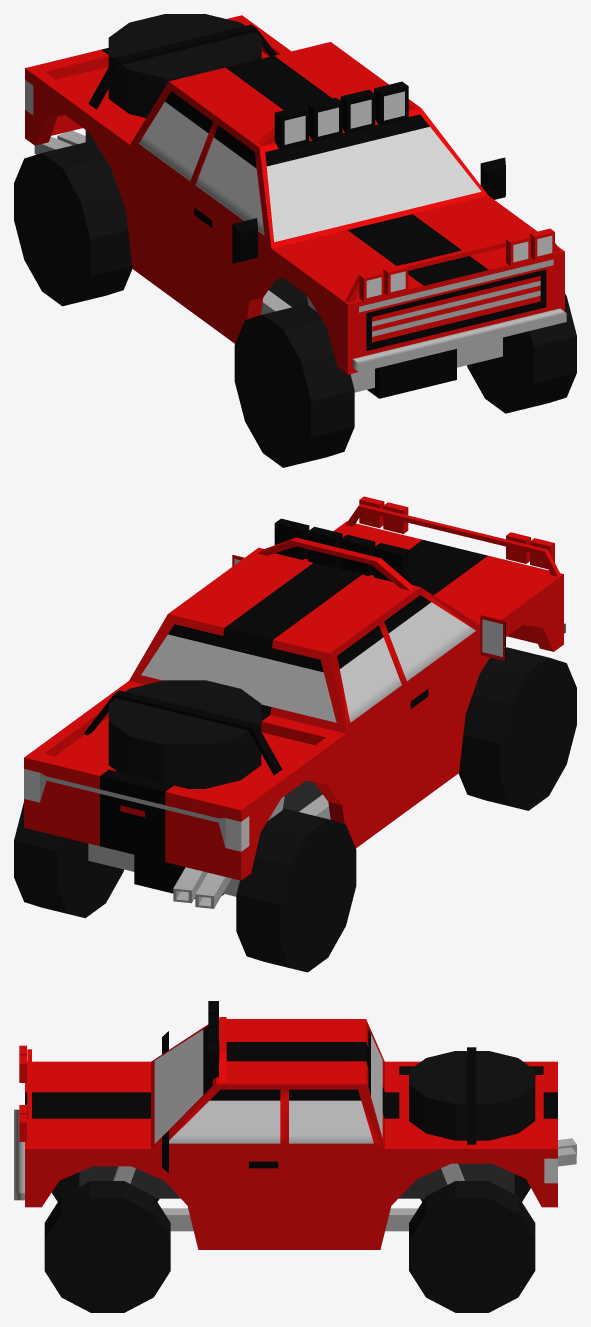
File: off_road_truck.gltf
3 renders of one model, top to bottom at view 1: azimuth 30°, elevation 25°; view 2: azimuth 150°, elevation 25°; view 3: azimuth 270°, elevation 25°, orthographic. The views are drawn at different scales.
Parts seen in each view (by area): view 1: OffRoadTruck, SR_Veh_OffRoadTruck_Wheel_RR, SR_Veh_OffRoadTruck_Wheel_FR, SR_Veh_OffRoadTruck_Wheel_FL; view 2: OffRoadTruck, SR_Veh_OffRoadTruck_Wheel_RR, SR_Veh_OffRoadTruck_Wheel_FR, SR_Veh_OffRoadTruck_Wheel_RL; view 3: OffRoadTruck, SR_Veh_OffRoadTruck_Wheel_FL, SR_Veh_OffRoadTruck_Wheel_RL, SR_Veh_OffRoadTruck_Wheel_FR.
Part boxes in pixels (bbox=[...]): OffRoadTruck: bbox=[25, 14, 566, 398]; SR_Veh_OffRoadTruck_Wheel_RR: bbox=[14, 142, 132, 306]; SR_Veh_OffRoadTruck_Wheel_FR: bbox=[234, 304, 354, 467]; SR_Veh_OffRoadTruck_Wheel_FL: bbox=[467, 293, 576, 413]; OffRoadTruck: bbox=[24, 496, 565, 908]; SR_Veh_OffRoadTruck_Wheel_RR: bbox=[236, 808, 356, 972]; SR_Veh_OffRoadTruck_Wheel_FR: bbox=[458, 647, 576, 810]; SR_Veh_OffRoadTruck_Wheel_RL: bbox=[14, 802, 123, 918]; OffRoadTruck: bbox=[14, 1001, 576, 1249]; SR_Veh_OffRoadTruck_Wheel_FL: bbox=[44, 1181, 170, 1312]; SR_Veh_OffRoadTruck_Wheel_RL: bbox=[409, 1181, 535, 1312]; SR_Veh_OffRoadTruck_Wheel_FR: bbox=[52, 1172, 159, 1201].
Bounding box in the file's own units: 3.8 × 3.75 × 8.22.
